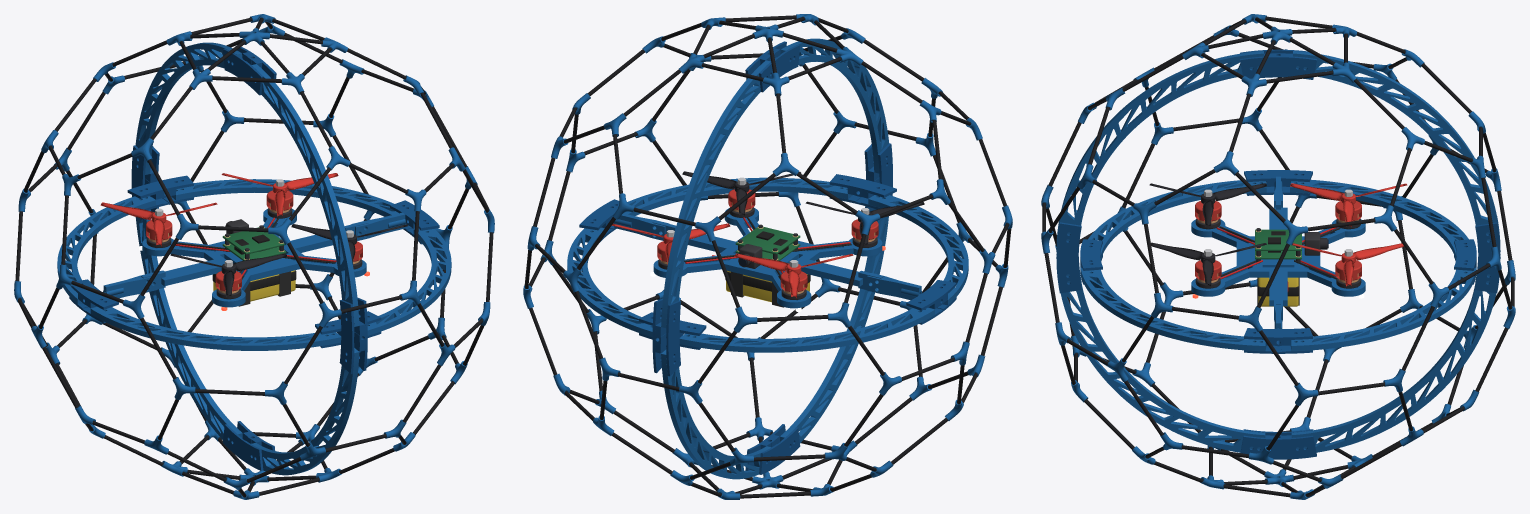
Rendered from ball_drone.glb.
3 renders of one model, left to right at view 1: azimuth 30°, elevation 25°; view 2: azimuth 150°, elevation 25°; view 3: azimuth 270°, elevation 25°, orthographic.
Parts seen in each view (by area): view 1: cage_rods, big_PETG_blue, cage_PETG_blue, small_PETG_blue, quad_PETG_blue, big_PETG_blue_dark, small_PETG_blue_dark, fc_pcb; view 2: cage_rods, big_PETG_blue, cage_PETG_blue, small_PETG_blue, quad_PETG_blue, big_PETG_blue_dark, small_PETG_blue_dark, fc_pcb; view 3: big_PETG_blue, cage_rods, cage_PETG_blue, small_PETG_blue, big_PETG_blue_dark, quad_PETG_blue, small_PETG_blue_dark, fc_pcb.
Part boxes in pixels (x1,y1,x2,y2): cage_rods: (15, 17, 493, 497); big_PETG_blue: (135, 42, 359, 475); cage_PETG_blue: (14, 14, 494, 499); small_PETG_blue: (57, 179, 451, 350); quad_PETG_blue: (103, 209, 405, 307); big_PETG_blue_dark: (131, 47, 367, 470); small_PETG_blue_dark: (69, 175, 439, 348); fc_pcb: (222, 227, 285, 254); cage_rods: (524, 15, 1011, 498); big_PETG_blue: (661, 38, 888, 479); cage_PETG_blue: (523, 14, 1012, 499); small_PETG_blue: (567, 177, 968, 352); quad_PETG_blue: (614, 208, 922, 308); big_PETG_blue_dark: (652, 41, 892, 474); small_PETG_blue_dark: (579, 174, 956, 349); fc_pcb: (735, 226, 800, 254); big_PETG_blue: (1056, 51, 1499, 452); cage_rods: (1042, 16, 1514, 497); cage_PETG_blue: (1041, 14, 1515, 499); small_PETG_blue: (1080, 179, 1476, 351); big_PETG_blue_dark: (1056, 49, 1500, 459); quad_PETG_blue: (1191, 176, 1365, 328); small_PETG_blue_dark: (1080, 170, 1476, 353); fc_pcb: (1255, 229, 1301, 250).
Bounding box in the file's own units: 0.3682 × 0.3813 × 0.3627.
